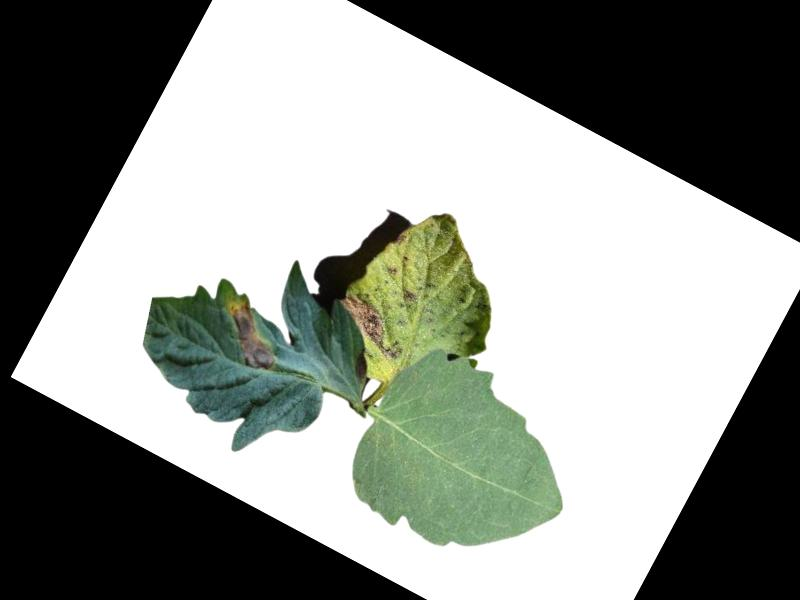Early_blight: (205, 292, 297, 378), (326, 285, 420, 362), (395, 285, 420, 307), (385, 260, 402, 278), (393, 230, 409, 247)
